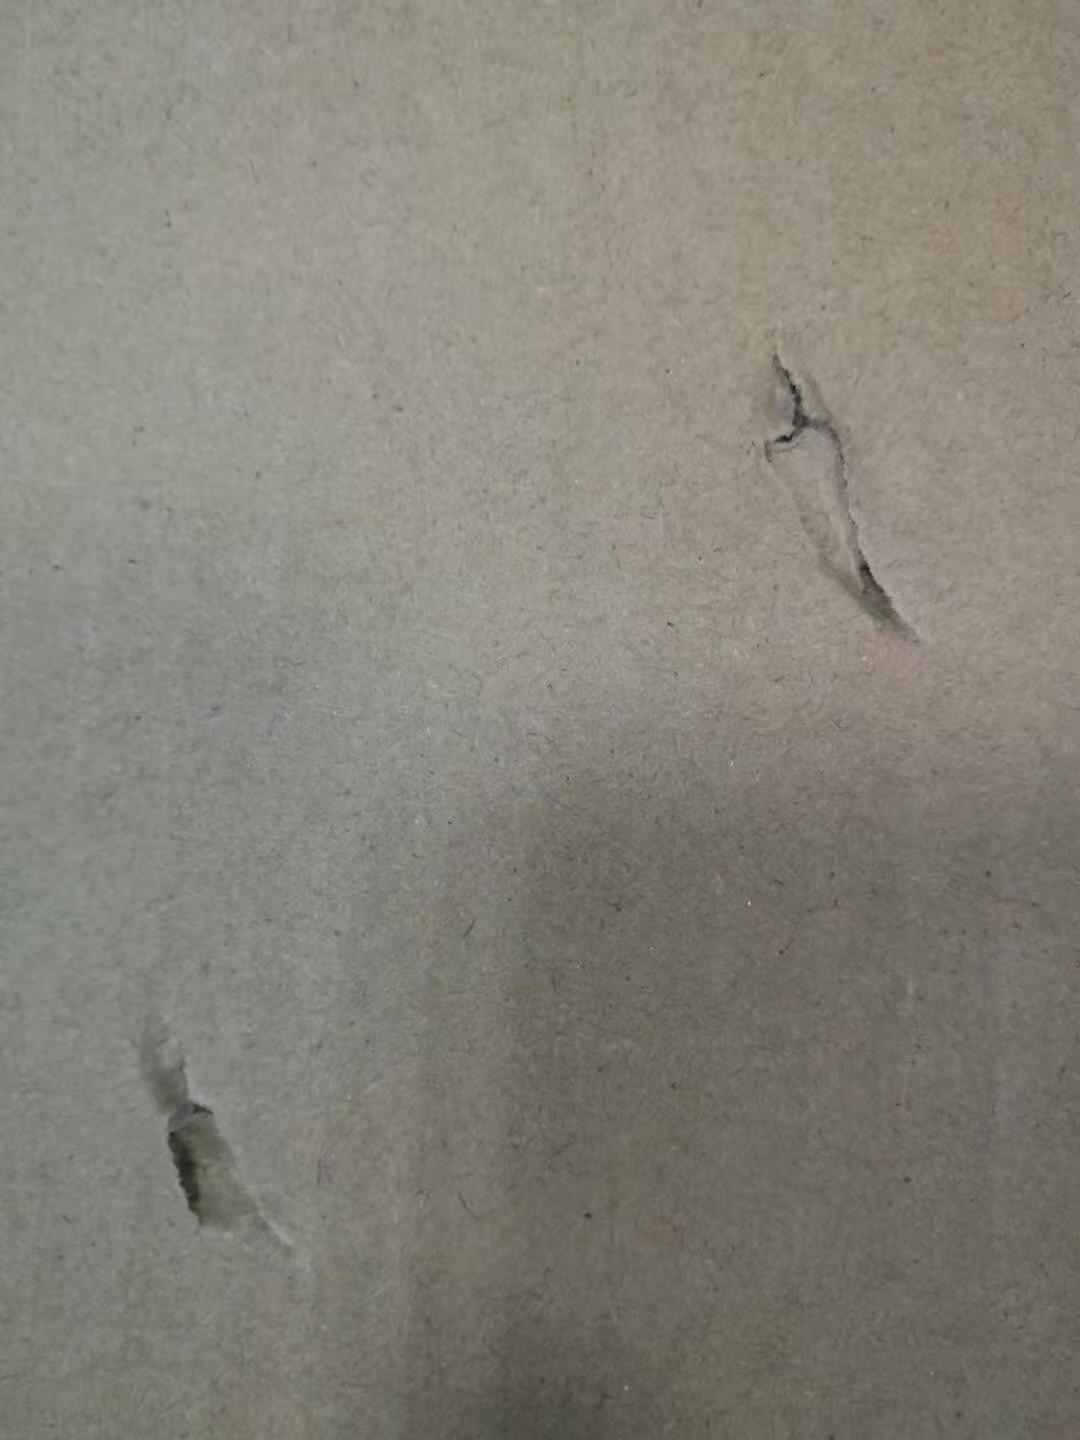defect: (714, 305, 974, 678), (106, 964, 326, 1288)
